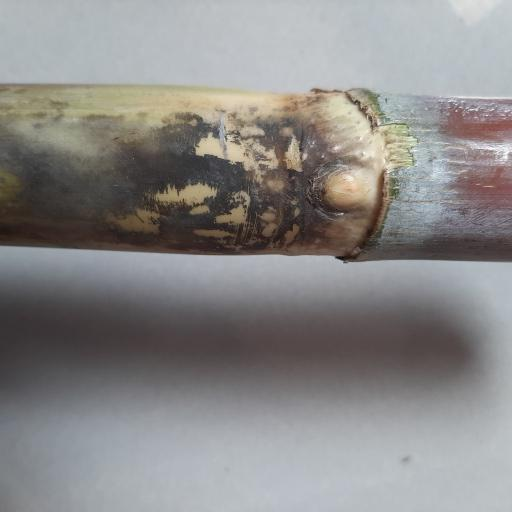Bud: (316, 169, 370, 214)
